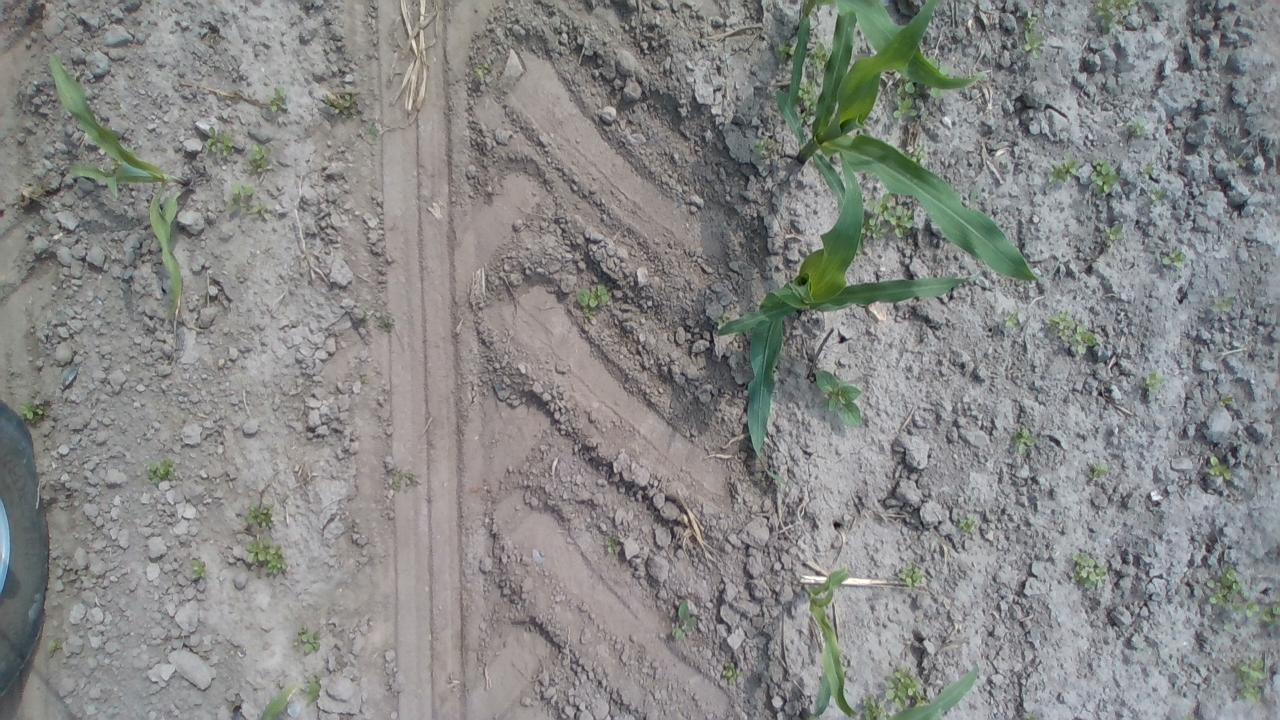Maize: (714, 146, 986, 487), (770, 0, 1062, 283), (48, 49, 195, 325), (788, 0, 991, 114), (802, 563, 858, 720), (889, 663, 981, 720), (258, 682, 304, 720), (232, 704, 246, 720)
Weeds: (1207, 560, 1259, 616), (814, 370, 864, 427), (1046, 308, 1100, 356), (865, 193, 916, 241), (244, 536, 288, 576), (884, 666, 926, 706), (1071, 550, 1110, 590), (1092, 0, 1136, 32), (1237, 657, 1267, 702), (670, 597, 700, 639), (1088, 157, 1120, 196), (1044, 152, 1082, 184), (224, 181, 256, 217), (575, 282, 612, 308), (144, 458, 177, 487), (797, 81, 819, 123), (205, 127, 238, 155), (858, 692, 891, 720), (318, 91, 356, 115), (1140, 367, 1170, 395), (246, 141, 272, 172), (294, 626, 322, 654), (247, 500, 274, 528), (1010, 426, 1037, 453), (19, 399, 45, 424), (1023, 31, 1044, 61), (1162, 244, 1188, 268), (898, 562, 922, 588), (893, 96, 917, 121), (1208, 457, 1234, 480), (1102, 222, 1126, 246), (268, 86, 290, 112), (1126, 112, 1148, 137), (719, 659, 742, 682), (306, 674, 323, 704), (1211, 294, 1236, 313), (377, 310, 398, 332), (392, 472, 414, 493), (1087, 462, 1111, 481), (958, 513, 978, 535), (752, 136, 772, 156), (810, 43, 826, 68), (908, 143, 928, 162), (1262, 602, 1280, 622), (191, 558, 206, 580), (774, 42, 792, 60), (896, 80, 916, 95), (1005, 312, 1023, 327), (1151, 189, 1166, 206), (1024, 10, 1038, 28), (1136, 161, 1152, 176), (606, 536, 620, 553), (581, 308, 597, 322), (366, 122, 381, 136), (1233, 154, 1247, 168), (255, 199, 268, 213), (1220, 394, 1234, 406), (476, 64, 488, 76), (362, 307, 372, 321), (928, 57, 939, 68), (929, 87, 940, 98), (939, 66, 951, 76), (1024, 712, 1038, 720), (714, 314, 728, 322), (50, 642, 59, 654), (280, 493, 289, 502)
